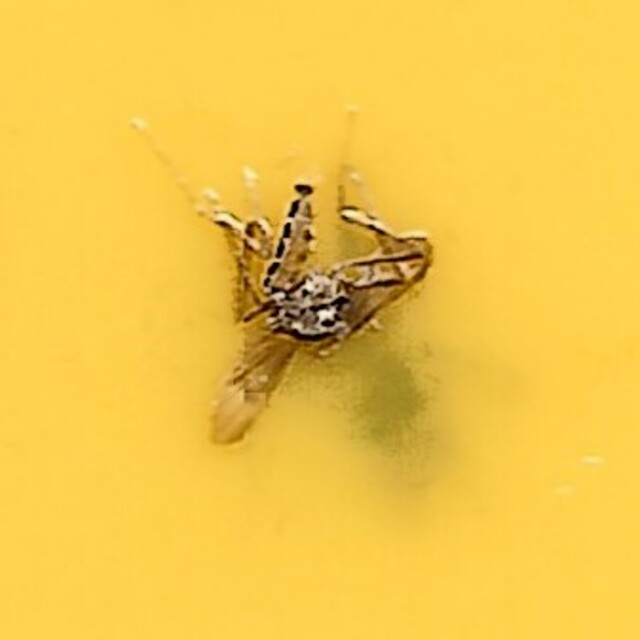Nematocera: (190, 189, 450, 451)
